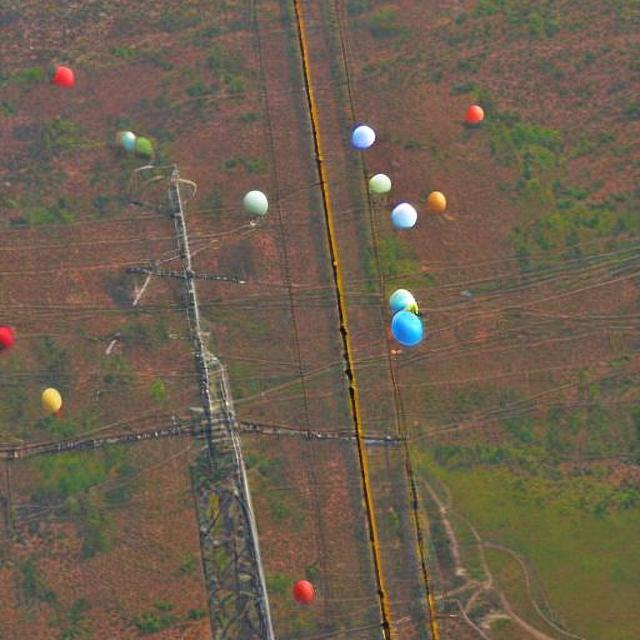balloon: (387, 290, 422, 346), (114, 125, 154, 158), (464, 96, 498, 131), (420, 185, 450, 222), (288, 573, 318, 607), (46, 62, 80, 88), (241, 188, 269, 218), (389, 199, 417, 229), (38, 382, 64, 414), (349, 120, 376, 150), (0, 321, 21, 353), (367, 171, 391, 194)
